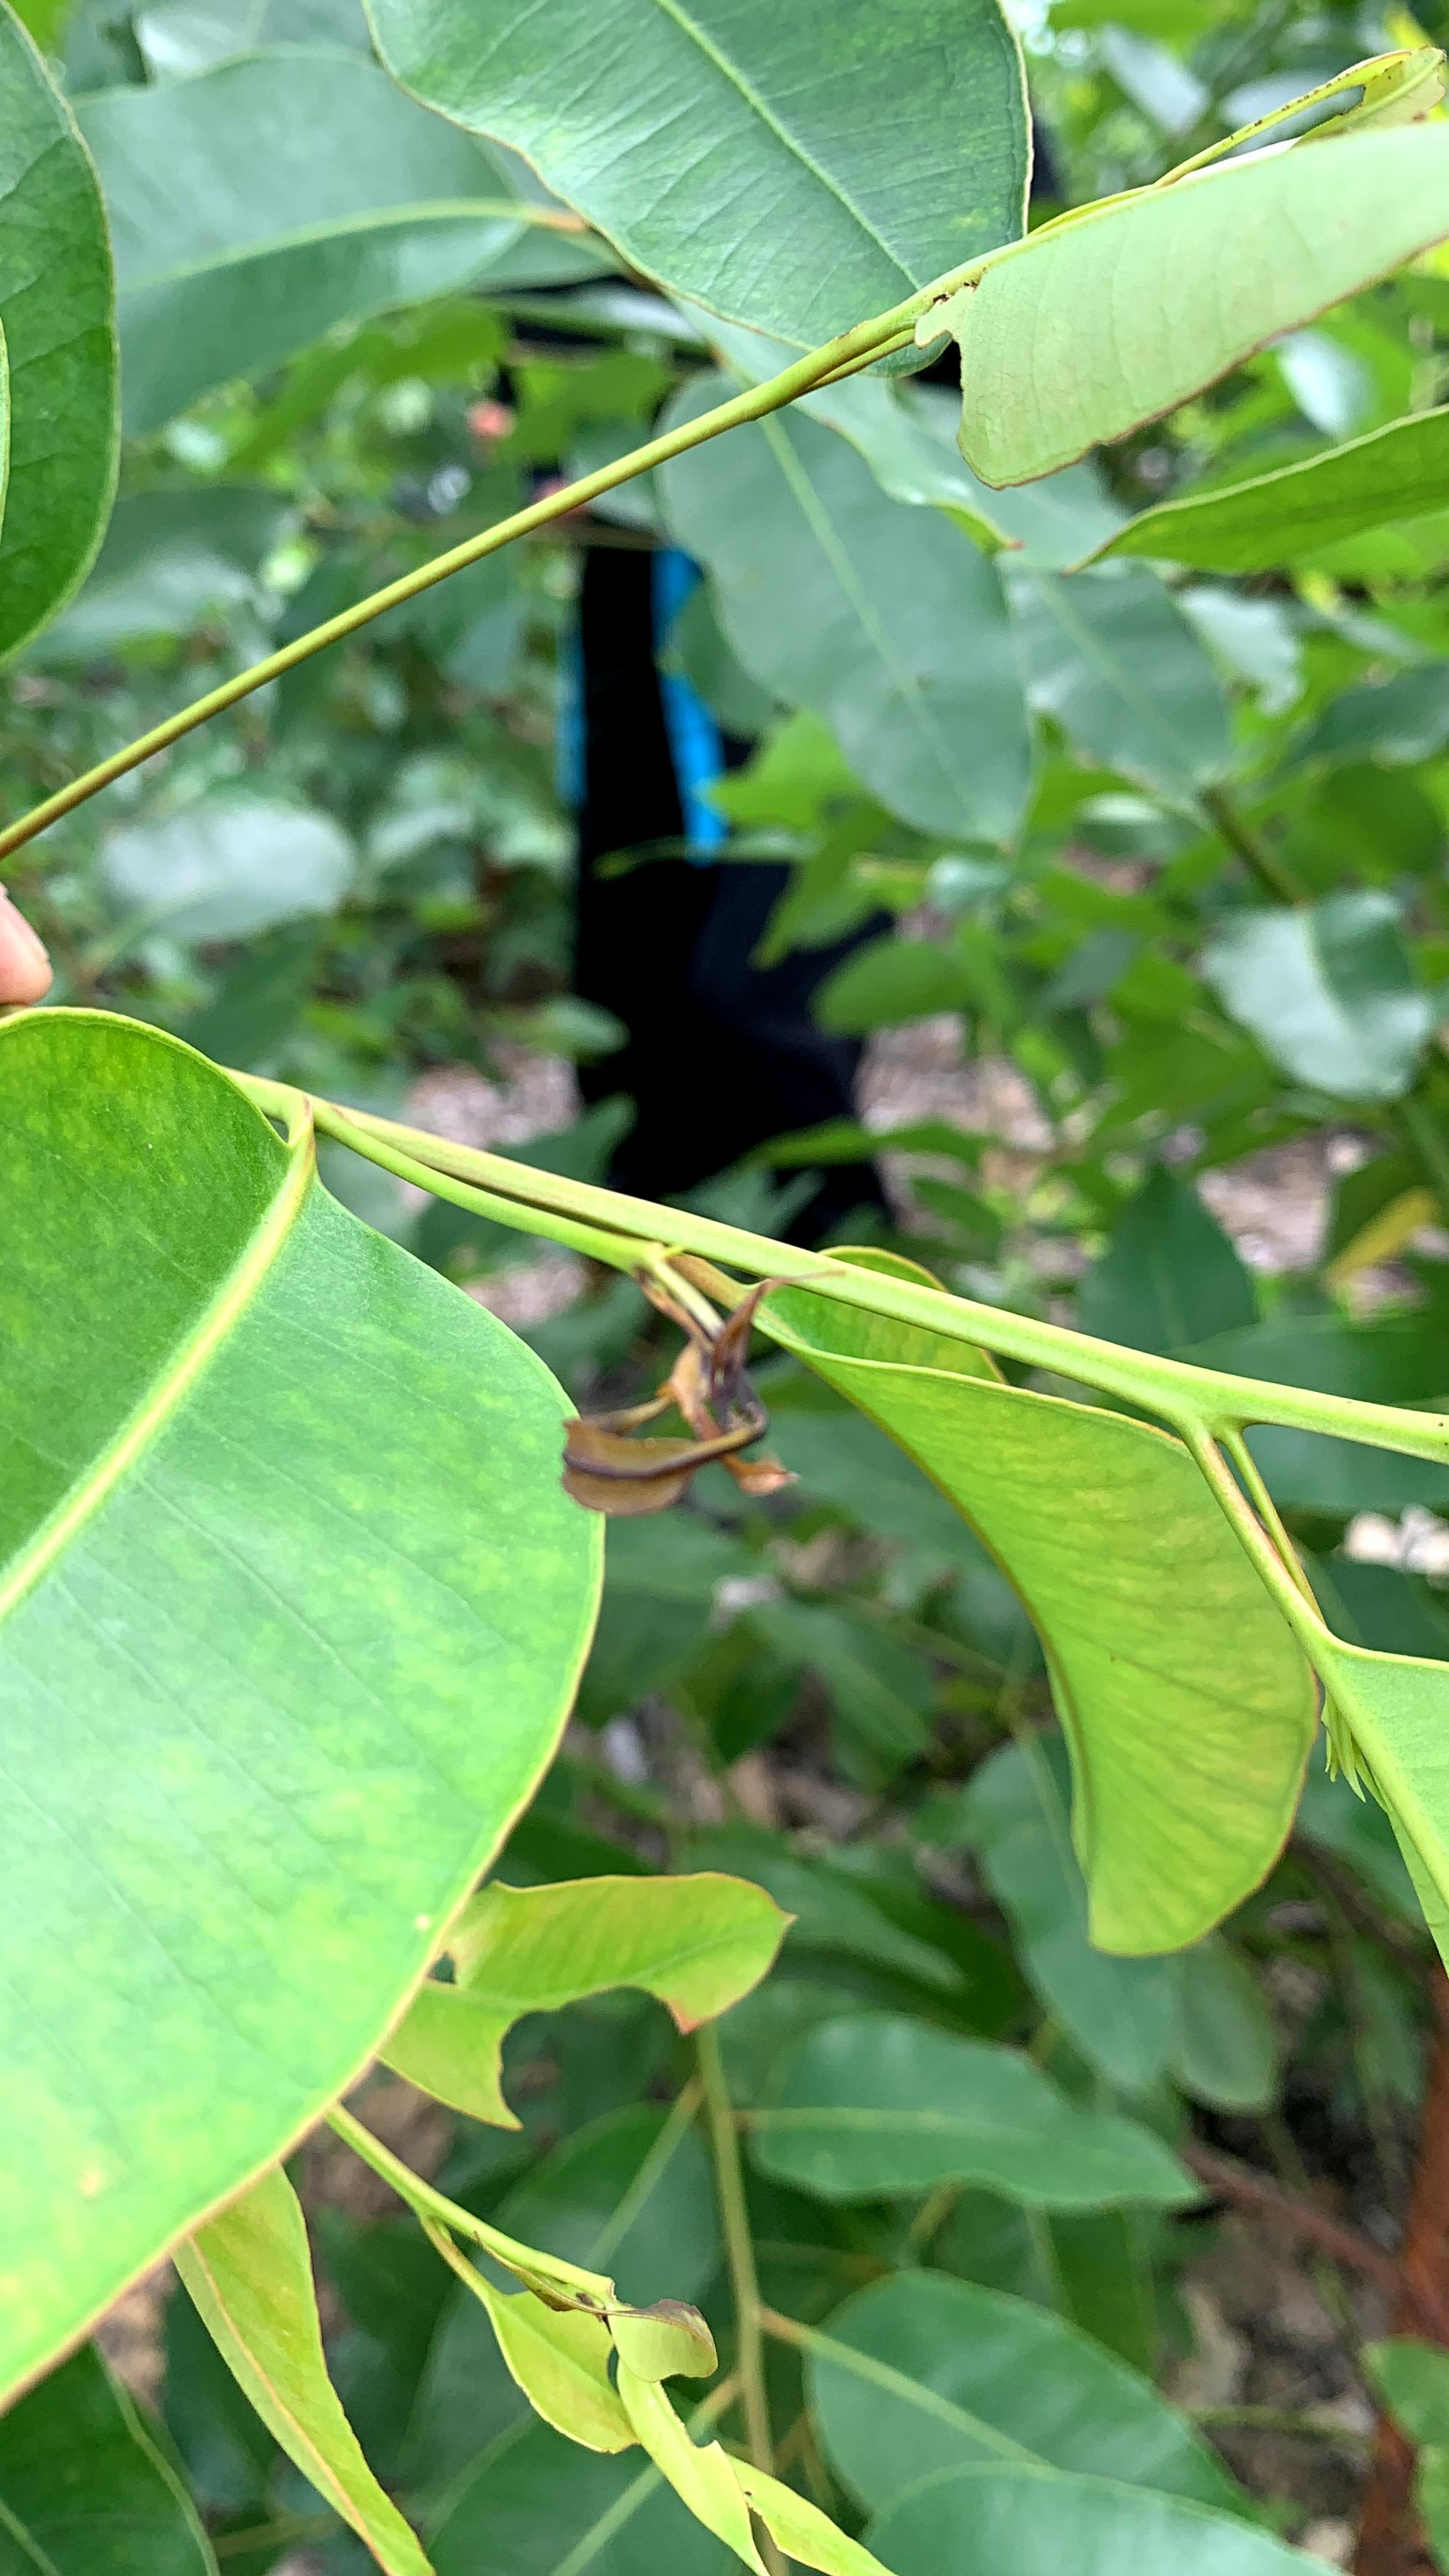Helopeltis-Withered Sprout: (557, 1234, 834, 1551)
